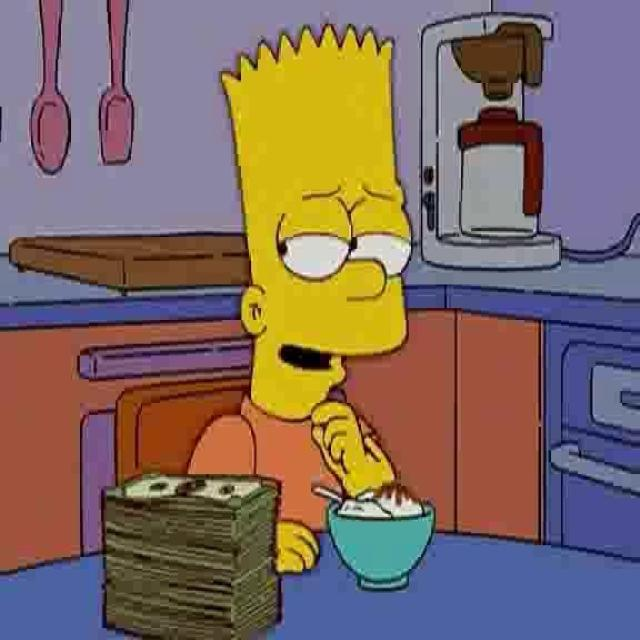Bart Simpson: (218, 19, 413, 425)
